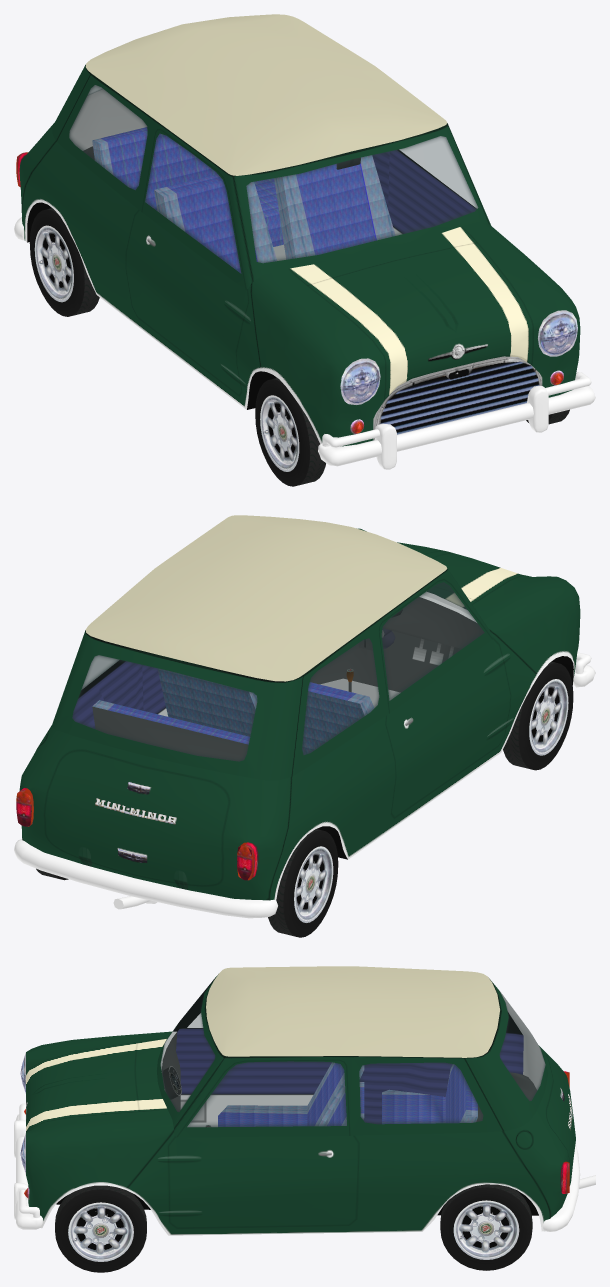
File: gcw-morris-mini_5666b24469e1.glb
3 renders of one model, top to bottom at view 1: azimuth 30°, elevation 25°; view 2: azimuth 150°, elevation 25°; view 3: azimuth 270°, elevation 25°, orthographic. The views are drawn at different scales.
Parts seen in each view (by area): view 1: BODY, INTERIOR, WHEEL_0, WHEEL_2; view 2: BODY, INTERIOR, WHEEL_2, WHEEL_0; view 3: BODY, INTERIOR, WHEEL_1, WHEEL_3.
Part boxes in pixels (left/top/right/bottom): BODY: left=14, top=14, right=595, bottom=469; INTERIOR: left=69, top=89, right=476, bottom=272; WHEEL_0: left=255, top=378, right=325, bottom=486; WHEEL_2: left=29, top=208, right=99, bottom=316; BODY: left=14, top=515, right=595, bottom=918; INTERIOR: left=72, top=592, right=484, bottom=761; WHEEL_2: left=268, top=829, right=338, bottom=937; WHEEL_0: left=503, top=661, right=573, bottom=770; BODY: left=14, top=966, right=595, bottom=1235; INTERIOR: left=161, top=979, right=545, bottom=1126; WHEEL_1: left=55, top=1185, right=146, bottom=1272; WHEEL_3: left=440, top=1184, right=532, bottom=1270.
Size of the model in its own units: 1.37 by 1.26 by 2.98.
Materials: 23 (23 with a texture image).
